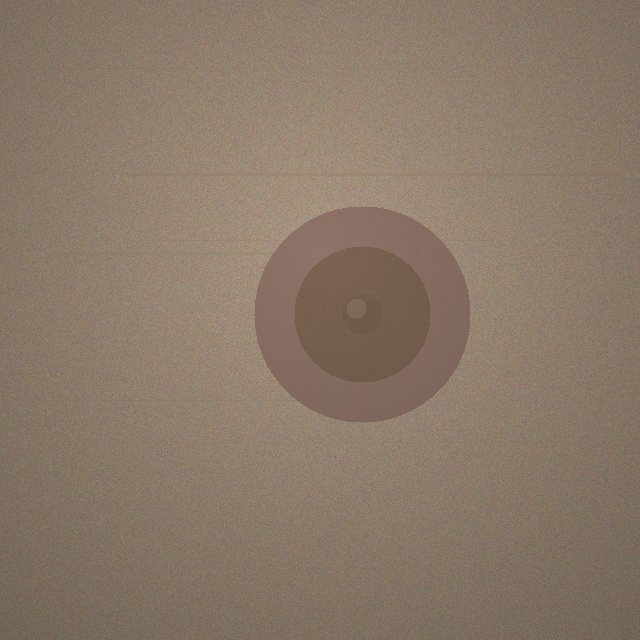good: (254, 206, 470, 422)
